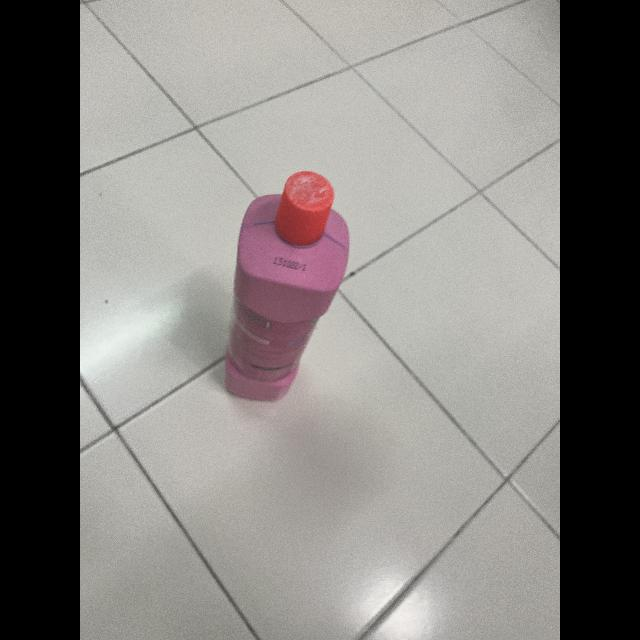chemical_plastic_bottle: (215, 164, 361, 410)
